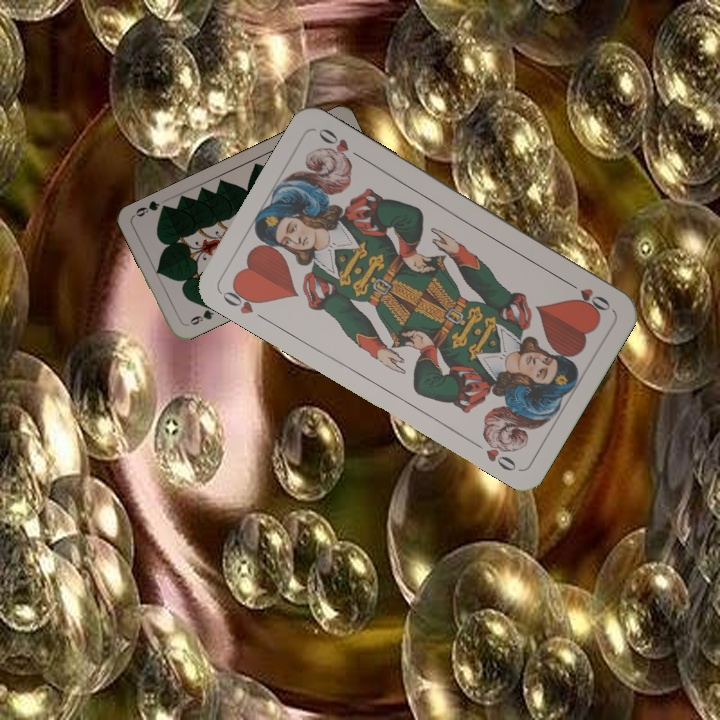G9: (182, 301, 218, 329)
HO: (218, 281, 270, 324), (561, 276, 614, 314)
